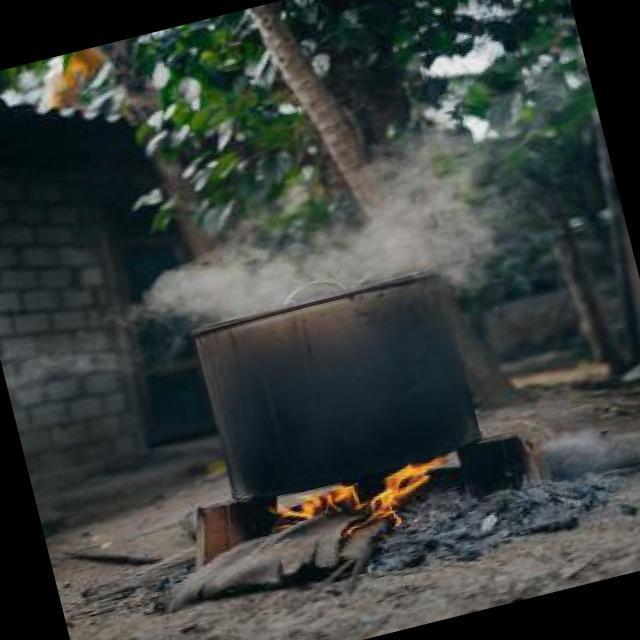Fire: (261, 446, 474, 560)
Smoke: (120, 117, 500, 354)
